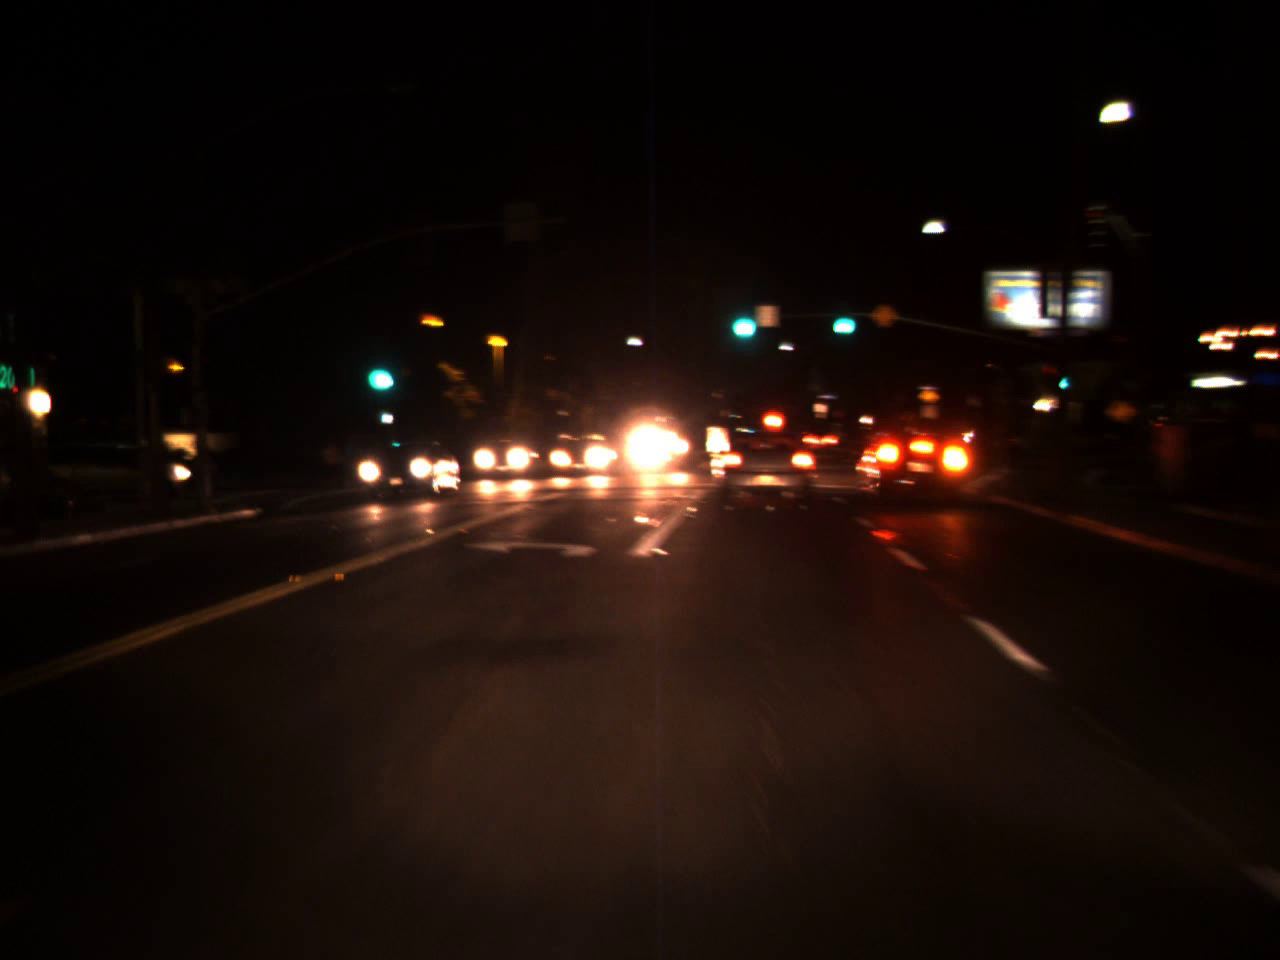go: (357, 341, 398, 398), (723, 298, 762, 340), (824, 299, 860, 338), (1056, 368, 1068, 392)
